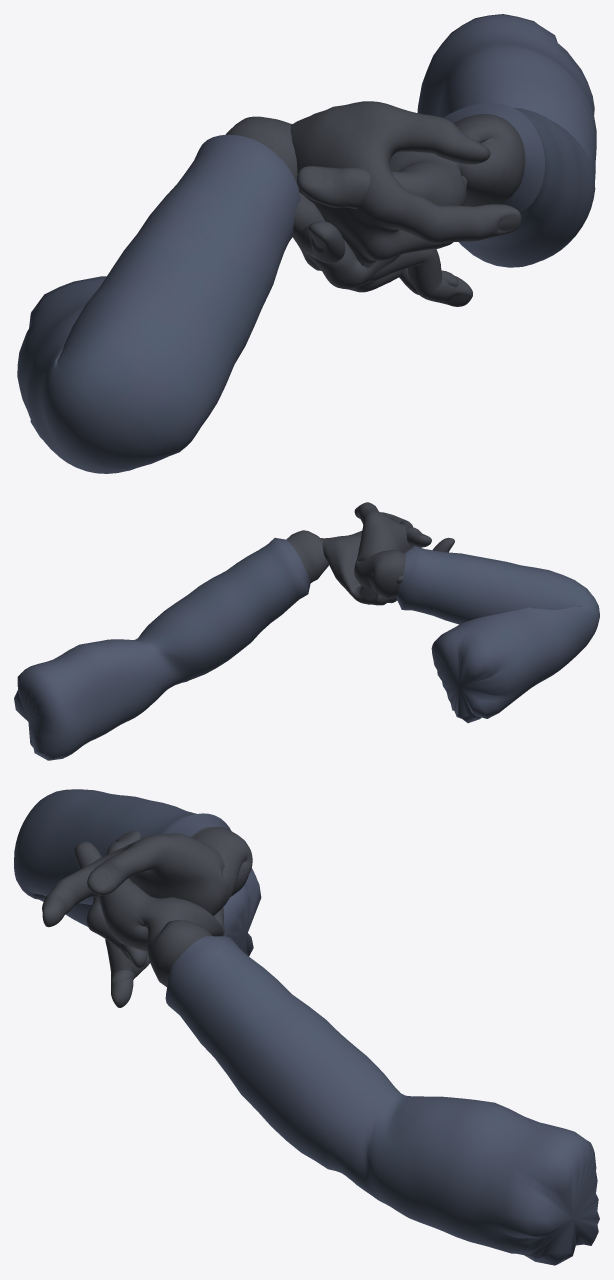
The model's file is muhafiz_rifle.fbx.
3 renders of one model, top to bottom at view 1: azimuth 30°, elevation 25°; view 2: azimuth 150°, elevation 25°; view 3: azimuth 270°, elevation 25°, orthographic. The views are drawn at different scales.
Parts seen in each view (by area): view 1: RightArm, LeftArm; view 2: LeftArm, RightArm; view 3: LeftArm, RightArm.
Boxes of the visible parts, left/top/right/bottom form: RightArm: left=17, top=101, right=521, bottom=473; LeftArm: left=292, top=14, right=596, bottom=289; LeftArm: left=14, top=527, right=454, bottom=760; RightArm: left=354, top=502, right=599, bottom=723; LeftArm: left=74, top=830, right=599, bottom=1265; RightArm: left=14, top=789, right=261, bottom=1007.
Size of the model in its own units: 0.6067 by 0.2615 by 0.4855.
